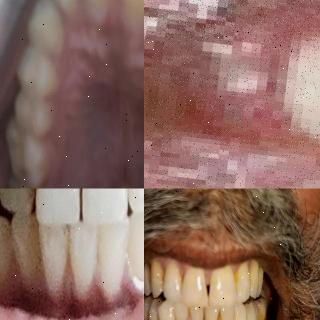Gum Swelling: (144, 0, 298, 114)
cavities: (14, 155, 28, 185), (144, 301, 150, 320)
maligned: (6, 200, 40, 288), (0, 211, 13, 297)
plaque: (158, 266, 168, 288), (145, 268, 155, 290)
stains: (256, 304, 270, 320), (234, 269, 242, 295), (199, 311, 213, 320), (184, 306, 193, 320), (215, 310, 227, 320), (230, 314, 240, 320)
